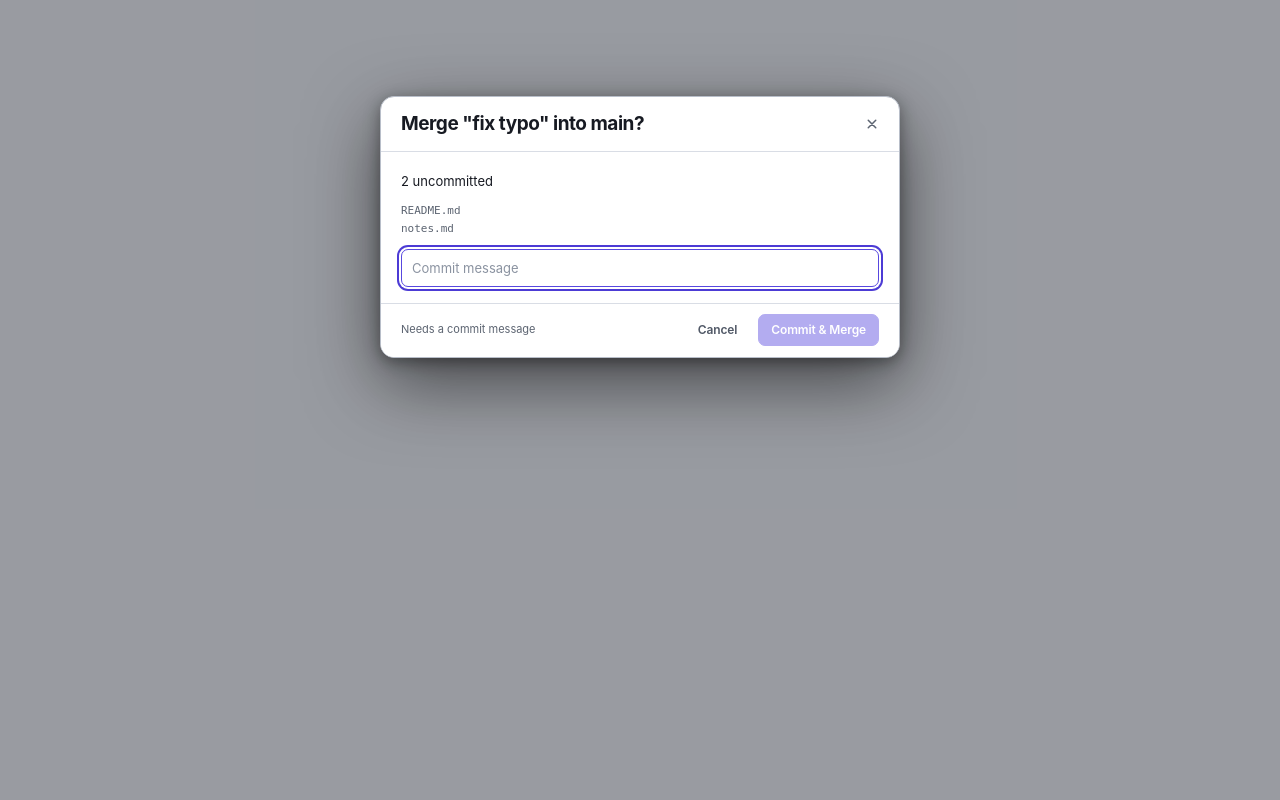
Test: a worktree with uncommitted work › says why Merge waits on the checkout it lands in
In the text box labelled "Commit message": (640, 268) [401,249,879,287], type "Everything"
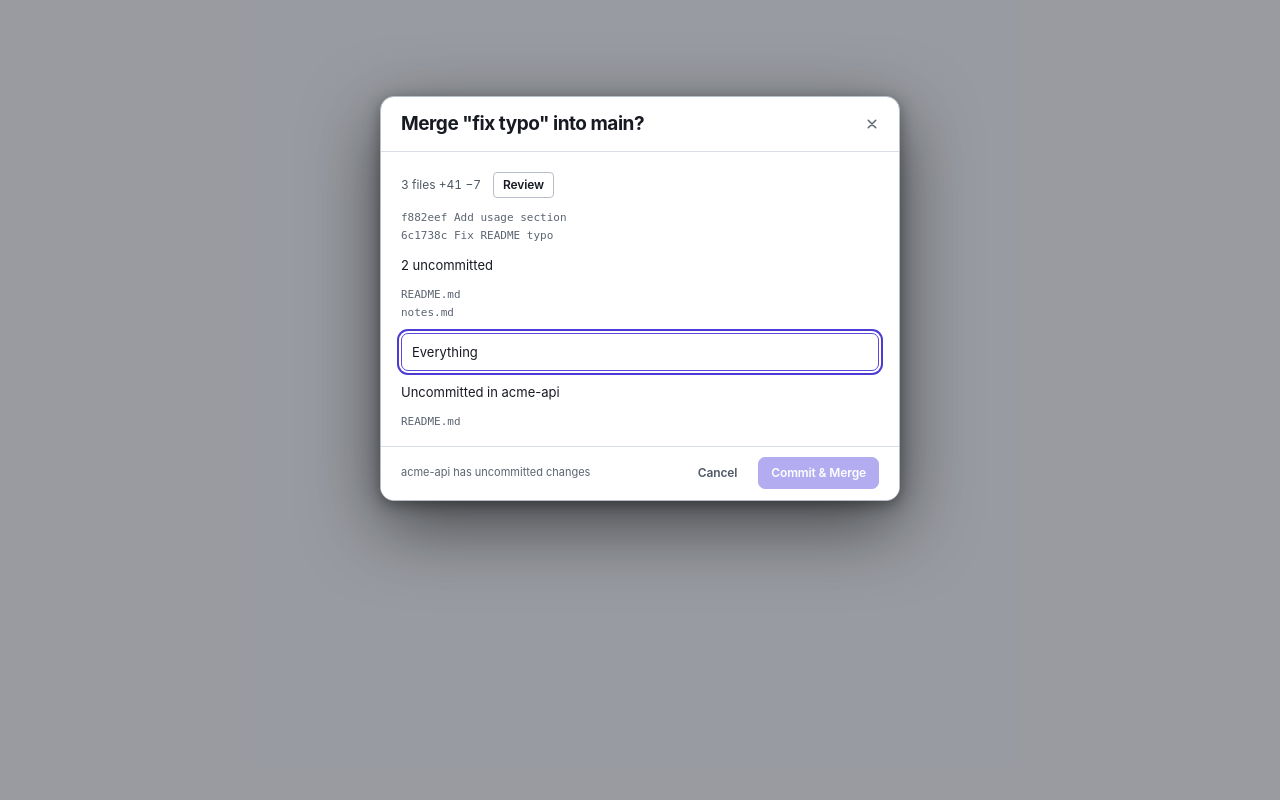
Expected: the button "Commit & Merge" is disabled, [758,457,879,489]
Result: the text "acme-api has uncommitted changes" is shown at [401,465,590,481]
